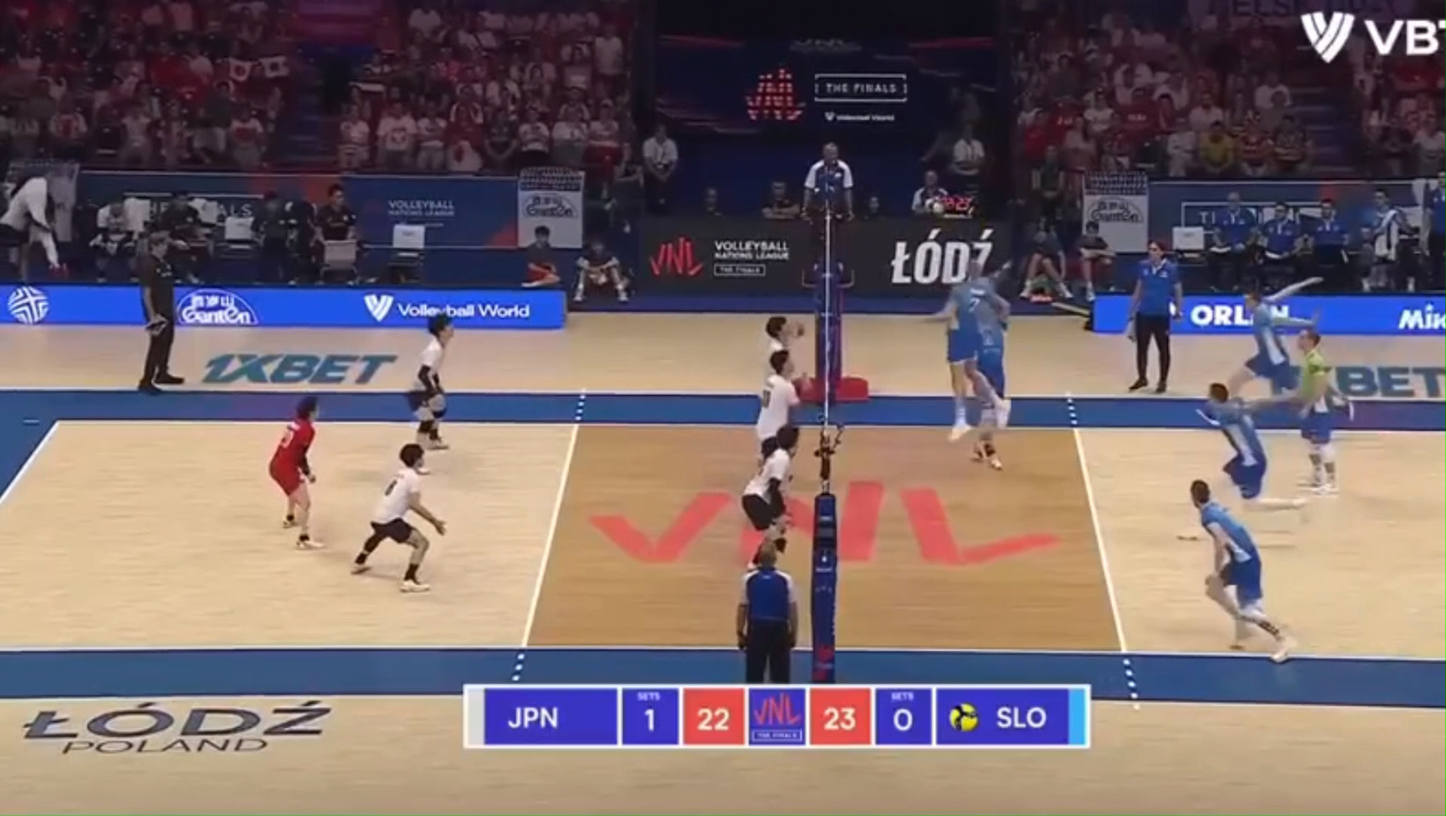ball: (928, 199, 944, 214)
player: (1190, 479, 1290, 662), (929, 259, 1009, 440), (1226, 278, 1321, 391), (1294, 329, 1349, 493), (1198, 383, 1270, 504), (973, 298, 1009, 469)
player 1: (352, 444, 445, 592), (268, 397, 320, 549), (740, 424, 798, 551), (406, 314, 453, 450), (755, 349, 800, 442), (765, 315, 803, 356), (789, 357, 798, 376)
referee: (736, 539, 798, 684), (134, 230, 184, 394), (1130, 241, 1183, 392), (802, 142, 854, 290)
